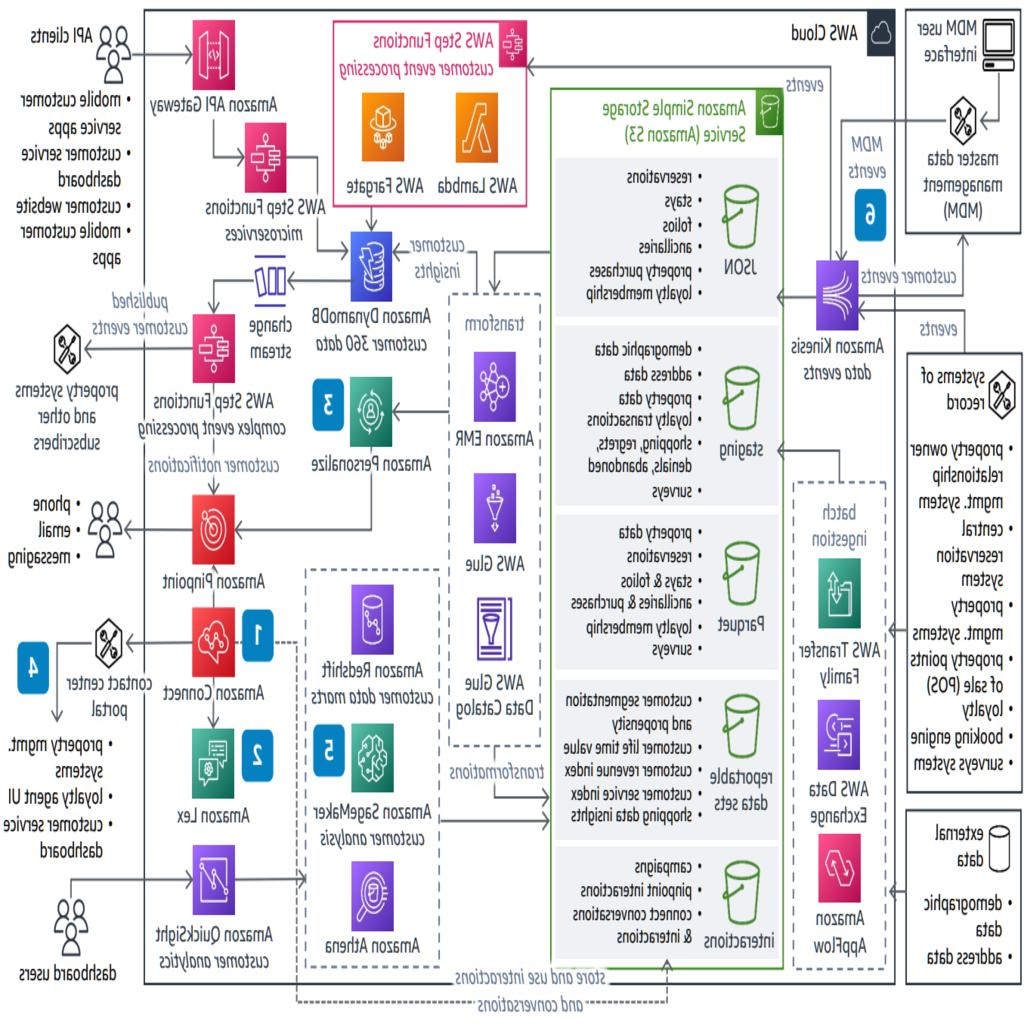actor: (96, 396, 140, 464), (96, 497, 140, 564), (96, 90, 140, 156), (52, 904, 95, 970)
api_gateway: (192, 458, 236, 525), (192, 520, 236, 586), (818, 264, 861, 330)
compute: (192, 316, 236, 384), (242, 125, 286, 192), (352, 716, 396, 783), (818, 562, 861, 630), (818, 698, 861, 766), (818, 828, 861, 896), (476, 470, 519, 538), (360, 102, 404, 168), (192, 610, 236, 676), (192, 730, 236, 796), (352, 860, 396, 926), (476, 593, 519, 660), (476, 356, 519, 422), (462, 102, 505, 168)
data_flow: (328, 962, 668, 967), (495, 678, 500, 964), (837, 361, 842, 530), (709, 574, 714, 738), (312, 528, 436, 533), (72, 878, 194, 883), (438, 792, 557, 797), (300, 89, 306, 181), (962, 186, 967, 288), (902, 120, 966, 126), (902, 306, 966, 312), (872, 290, 962, 294), (57, 645, 62, 717), (665, 928, 670, 1000), (305, 132, 361, 138), (372, 299, 376, 381), (902, 571, 966, 576), (294, 279, 350, 284), (504, 248, 550, 254), (403, 248, 449, 254), (419, 409, 472, 414), (775, 294, 818, 300), (759, 514, 802, 520), (902, 894, 966, 898), (837, 212, 842, 263), (148, 640, 190, 646), (372, 446, 376, 506), (282, 878, 328, 883), (148, 156, 190, 161), (148, 528, 190, 533), (372, 182, 376, 232), (786, 448, 822, 453), (148, 592, 190, 596), (148, 348, 190, 352), (886, 306, 912, 312), (888, 638, 904, 642)
database_storage: (352, 232, 396, 300), (352, 378, 396, 445), (352, 586, 396, 653), (192, 847, 236, 914), (720, 862, 763, 930), (720, 368, 763, 435), (720, 545, 763, 612), (720, 722, 763, 789), (720, 190, 763, 256)
network_security: (89, 610, 132, 676)
trust_boundary: (144, 20, 896, 1004), (551, 88, 784, 974), (145, 502, 297, 983), (304, 563, 444, 973), (905, 348, 1024, 799), (792, 478, 886, 976), (450, 292, 544, 742), (332, 41, 526, 184), (905, 8, 1024, 238), (905, 809, 1024, 983)
